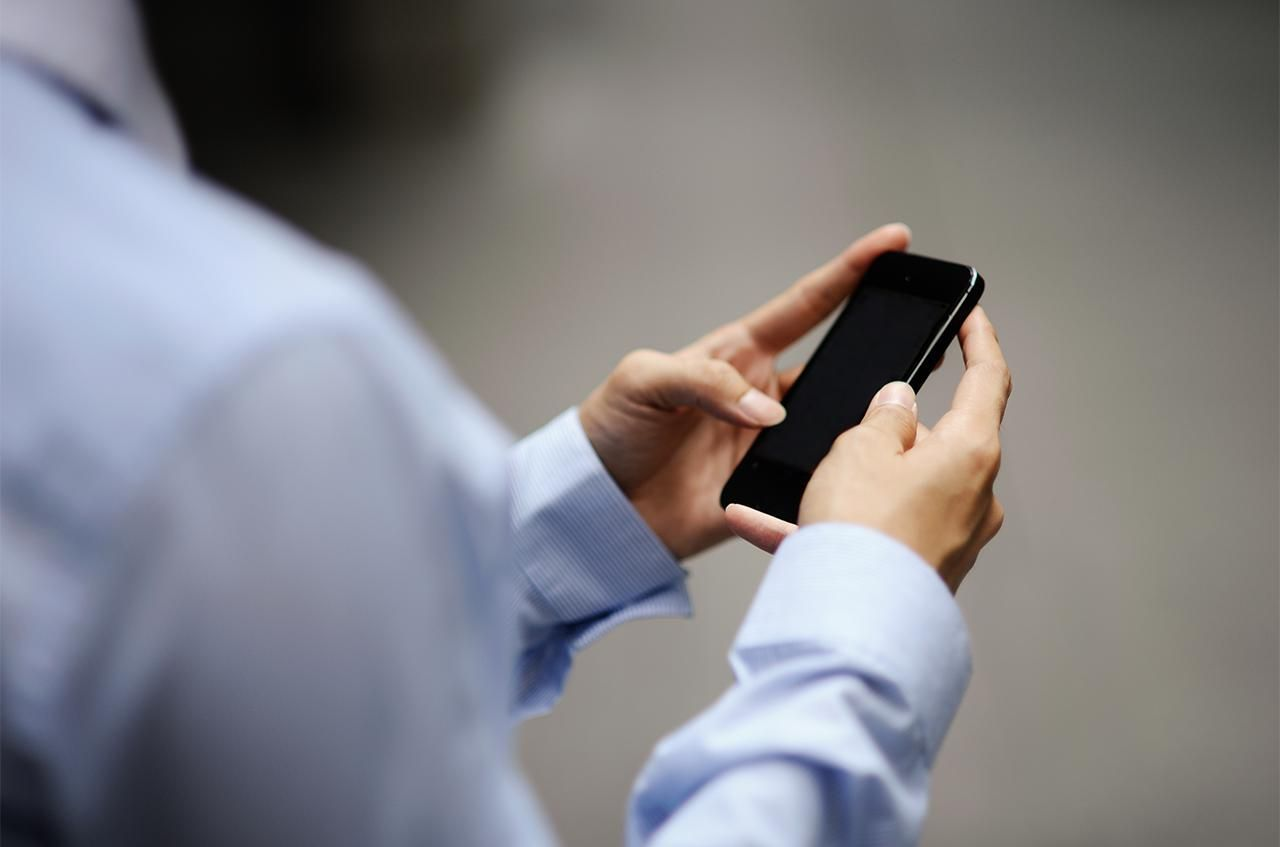smartphone: (718, 244, 987, 528)
